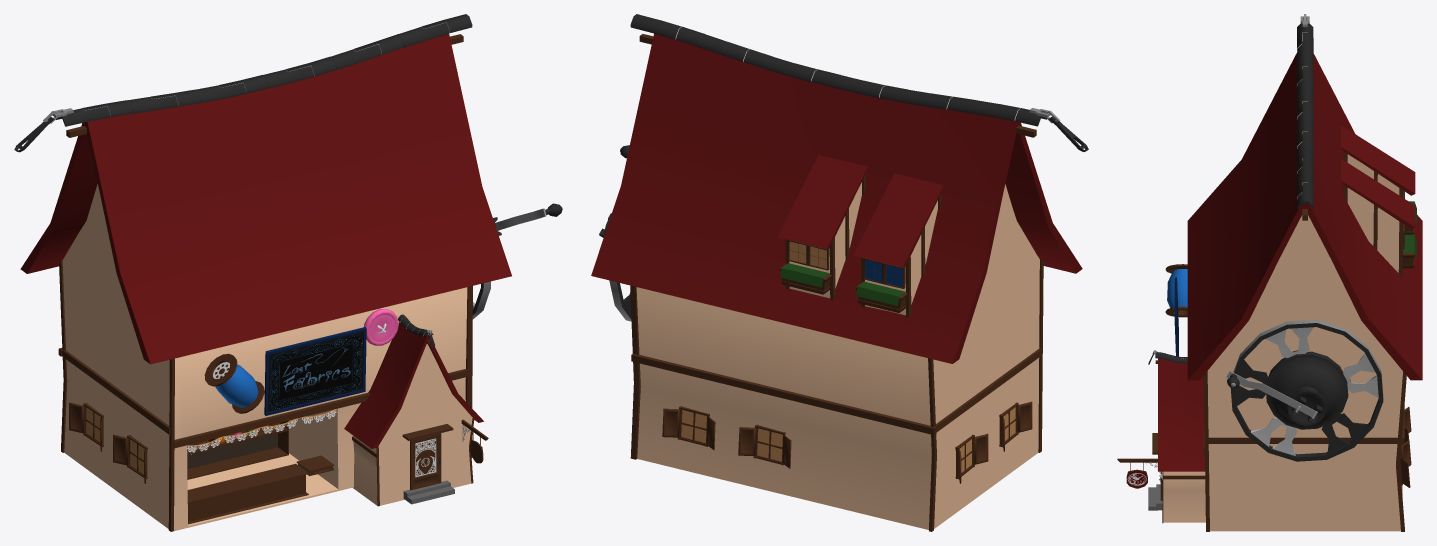
Rendered from HouseShop.fbx.
3 renders of one model, left to right at view 1: azimuth 30°, elevation 25°; view 2: azimuth 150°, elevation 25°; view 3: azimuth 270°, elevation 25°, orthographic. The views are drawn at different scales.
Visible parts, largest first — view 1: HouseShop, ShopIcon, Carretel, Manivela; view 2: HouseShop, Manivela; view 3: HouseShop, Manivela, Carretel.
Boxes of the visible parts, box(x1,y1,x2,y2) form: HouseShop: box(14, 14, 511, 531); ShopIcon: box(264, 327, 366, 415); Carretel: box(204, 353, 264, 413); Manivela: box(472, 203, 562, 319); HouseShop: box(591, 14, 1088, 531); Manivela: box(599, 145, 631, 321); HouseShop: box(1117, 14, 1422, 531); Manivela: box(1226, 319, 1383, 461); Carretel: box(1165, 264, 1187, 317).
Size of the model in its own units: 2668 by 2001 by 1543.
